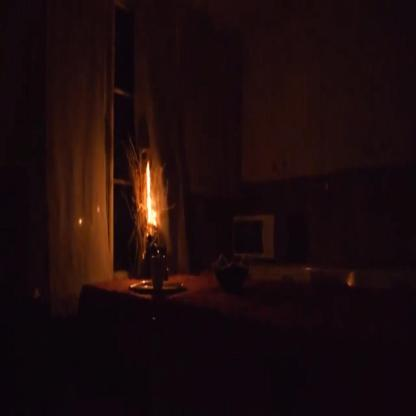fire: (140, 154, 164, 233)
